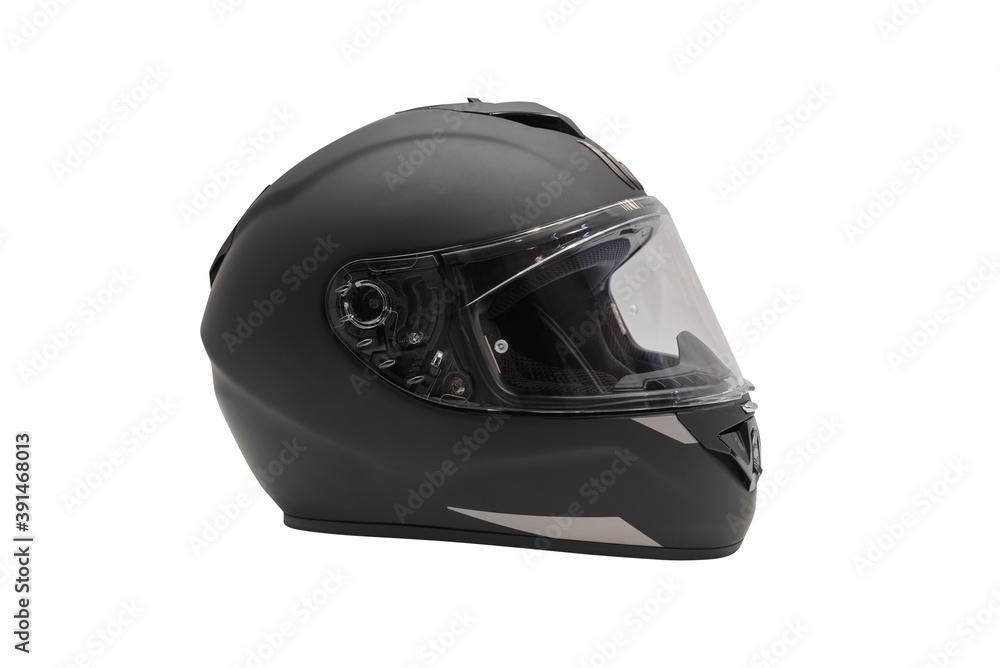helmet: (198, 95, 764, 562)
